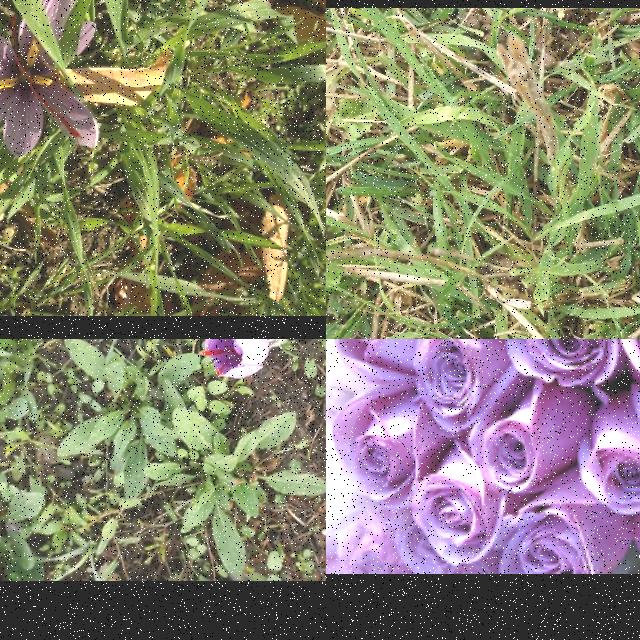flower: (0, 0, 99, 157), (199, 339, 269, 379)
